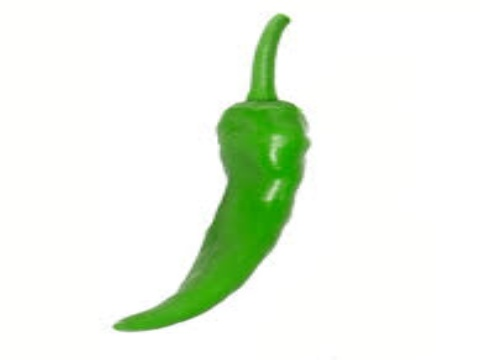Chilli: (112, 7, 329, 337)
